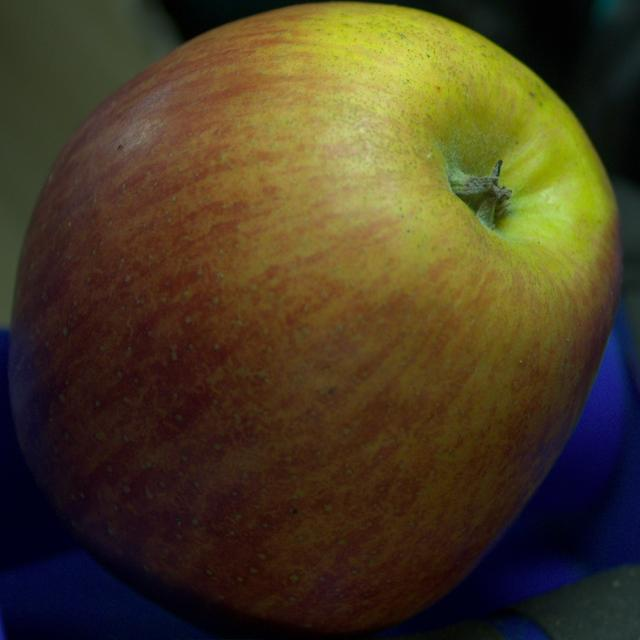apple: (8, 2, 621, 639)
